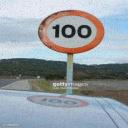speed_limit_100: (42, 12, 102, 52)
